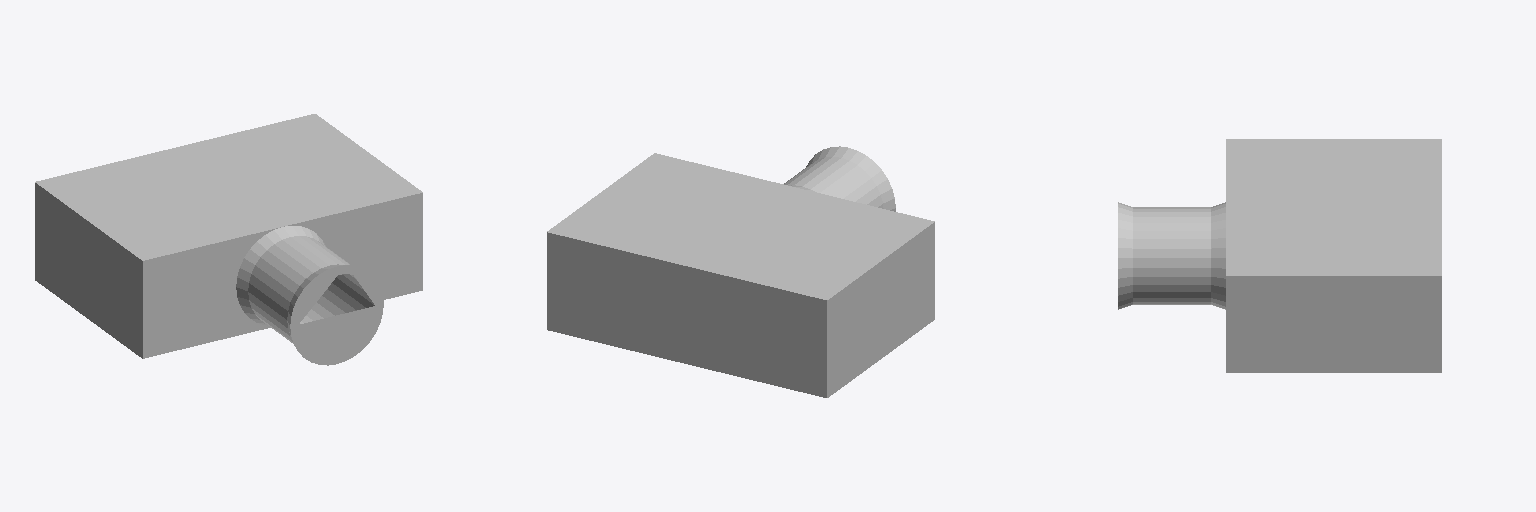
File: WaterDestination.obj
The picture shows the model from 3 angles: view 1: azimuth 30°, elevation 25°; view 2: azimuth 150°, elevation 25°; view 3: azimuth 270°, elevation 25°; orthographic projection.
Parts seen in each view (by area): view 1: Cube; view 2: Cube; view 3: Cube.
Boxes of the visible parts, x1=… form: Cube: x1=35, y1=114, x2=422, y2=365; Cube: x1=547, y1=146, x2=934, y2=397; Cube: x1=1118, y1=139, x2=1441, y2=372.
Bounding box in the file's own units: 3 × 1 × 3.